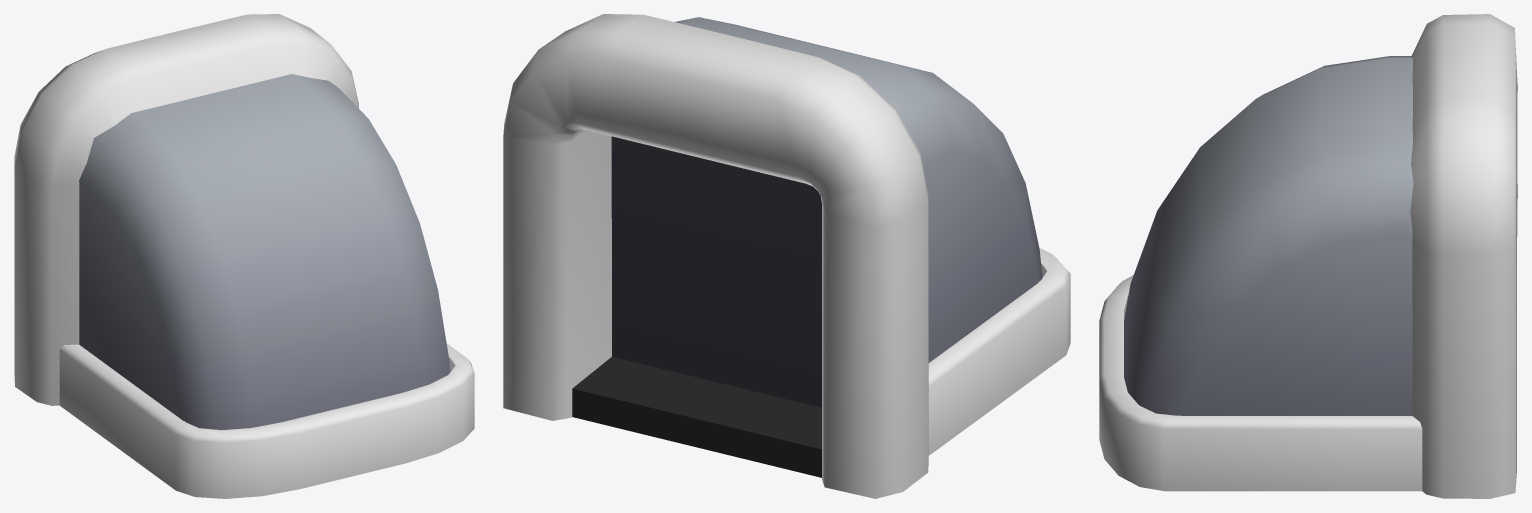
File: Tunnel.fbx
3 views of the same model, side by side, from view 1: azimuth 30°, elevation 25°; view 2: azimuth 150°, elevation 25°; view 3: azimuth 270°, elevation 25° (orthographic). The views are drawn at different scales.
Parts seen in each view (by area): view 1: Tunnel; view 2: Tunnel; view 3: Tunnel.
Part boxes in pixels (x1,y1,x2,y2): Tunnel: (14, 14, 474, 498); Tunnel: (503, 14, 1070, 498); Tunnel: (1099, 14, 1517, 498).
Bounding box in the file's own units: 93.63 × 87.35 × 94.49.
